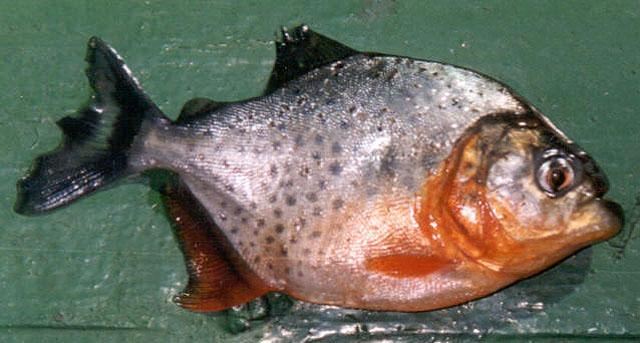Mulut: (520, 160, 638, 260)
Sirip Anal: (148, 164, 282, 328)
Sirip Dada: (349, 239, 465, 297)
Sirip Ekor: (8, 24, 170, 234)
Sirip Punggung: (167, 11, 365, 138)
